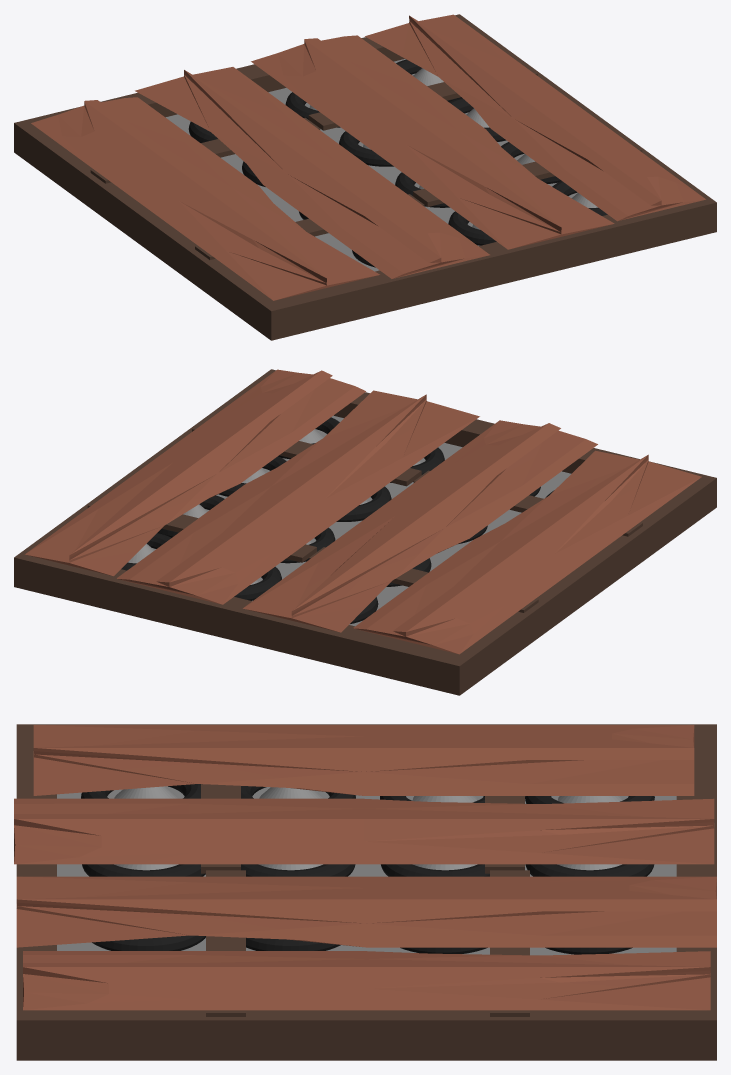
File: Trap.fbx
3 views of the same model, one above another, from view 1: azimuth 30°, elevation 25°; view 2: azimuth 150°, elevation 25°; view 3: azimuth 270°, elevation 25° (orthographic). The views are drawn at different scales.
Parts seen in each view (by area): view 1: Door1, Door2, GroundPlate, Spikes; view 2: Door1, Door2, GroundPlate, Spikes; view 3: Door1, Door2, GroundPlate, Spikes.
Boxes of the visible parts, x1=… form: Door1: x1=31, y1=67, x2=489, y2=300; Door2: x1=251, y1=14, x2=705, y2=249; GroundPlate: x1=14, y1=14, x2=716, y2=340; Spikes: x1=188, y1=59, x2=607, y2=267; Door1: x1=243, y1=420, x2=701, y2=654; Door2: x1=25, y1=369, x2=479, y2=604; GroundPlate: x1=14, y1=369, x2=716, y2=695; Spikes: x1=121, y1=417, x2=554, y2=623; Door1: x1=14, y1=724, x2=714, y2=873; Door2: x1=16, y1=870, x2=716, y2=1016; GroundPlate: x1=16, y1=724, x2=716, y2=1060; Spikes: x1=81, y1=784, x2=654, y2=954.
Size of the model in its own units: 200 by 18.39 by 201.
